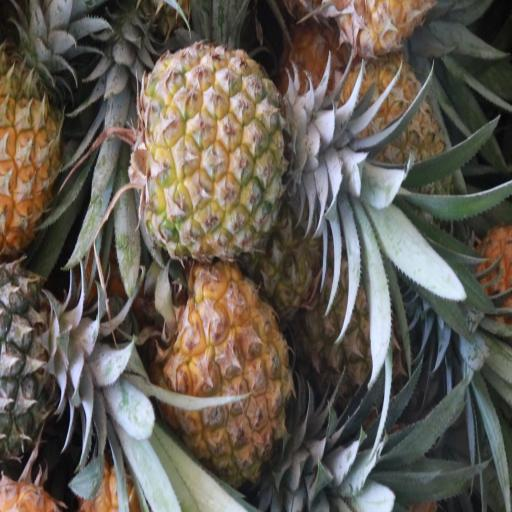------------------------------: (334, 60, 448, 229)
Pineapple - v8 v1: (155, 258, 290, 488), (139, 48, 286, 259), (0, 58, 67, 256)
